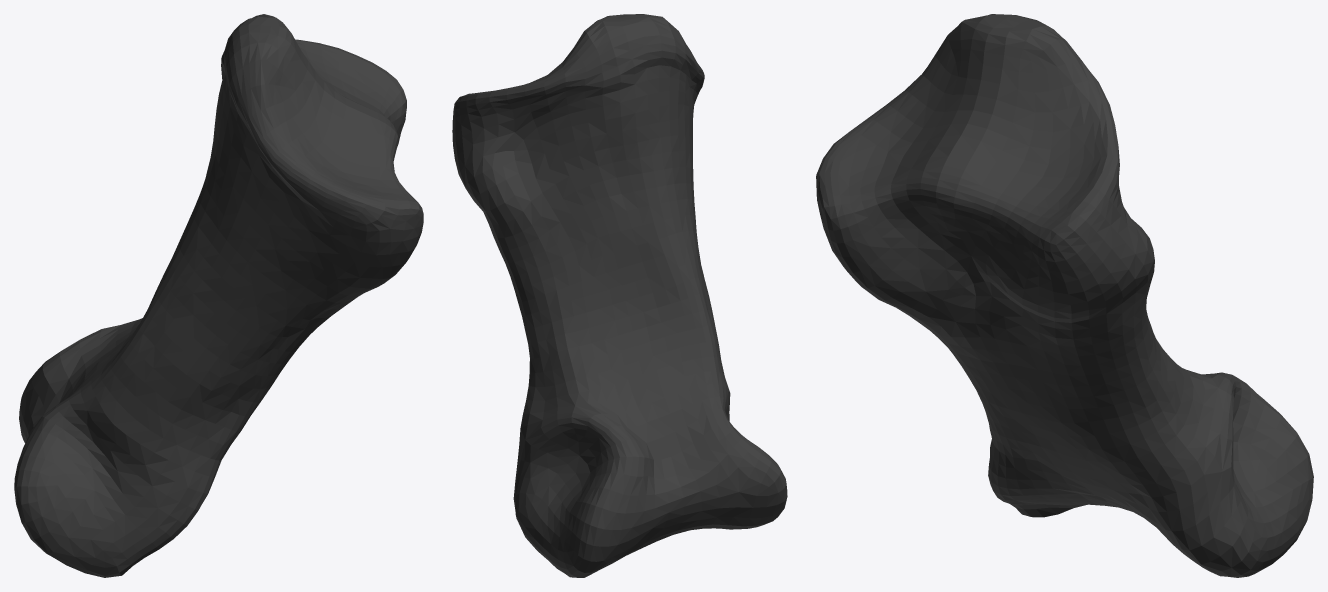
The model's file is middle_phalanx_II_L.glb.
3 renders of one model, left to right at view 1: azimuth 30°, elevation 25°; view 2: azimuth 150°, elevation 25°; view 3: azimuth 270°, elevation 25°, orthographic. The views are drawn at different scales.
Visible parts, largest first — view 1: middle_phalanx_II_L; view 2: middle_phalanx_II_L; view 3: middle_phalanx_II_L.
Boxes of the visible parts, left/top/right/bottom form: middle_phalanx_II_L: left=14, top=14, right=423, bottom=577; middle_phalanx_II_L: left=452, top=14, right=787, bottom=577; middle_phalanx_II_L: left=816, top=14, right=1313, bottom=577.
Bounding box in the file's own units: 0.0172 × 0.0231 × 0.0181.
1 material, 1 textured.
